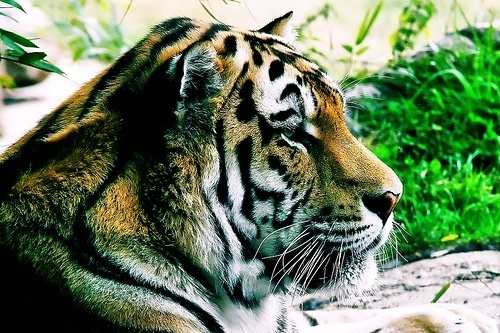tigre: (2, 10, 404, 333)
